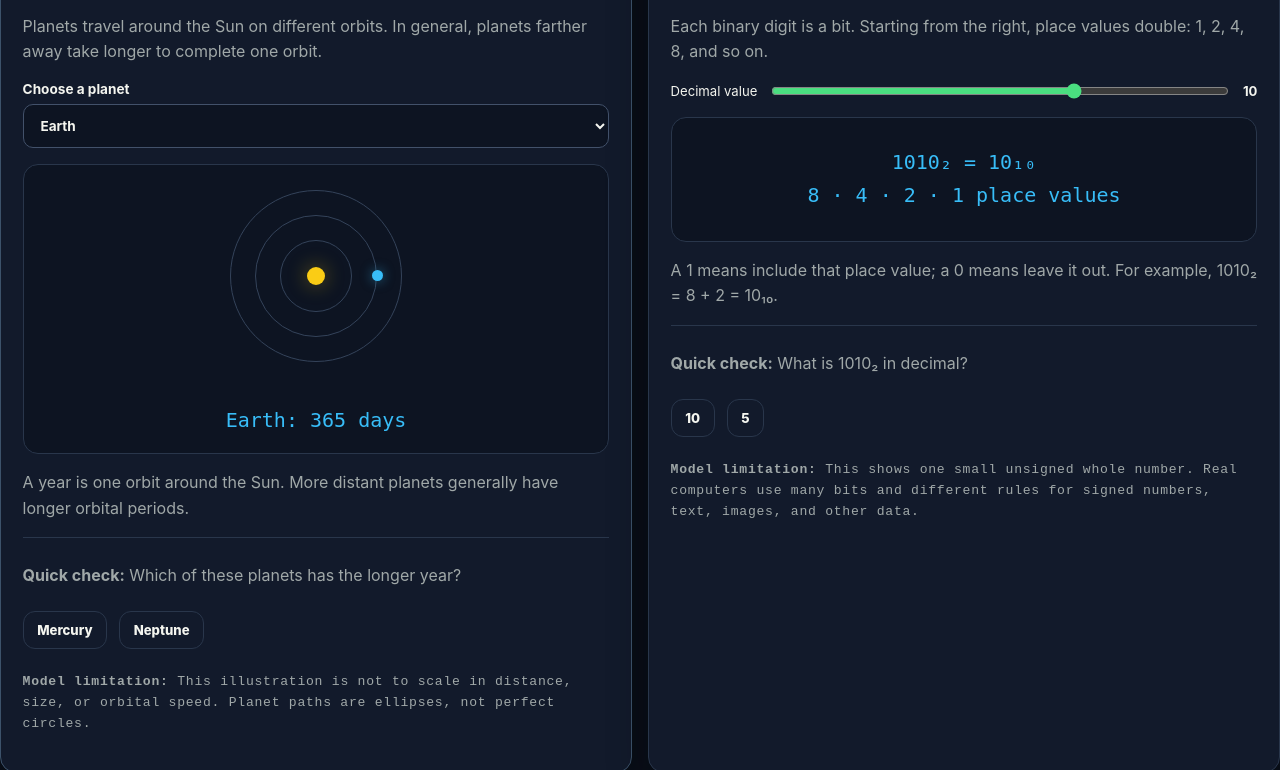
ScienceExperiences › rejects an incorrect knowledge check answer
(page scrolled)
Click the button "Mercury": (65, 630) [23, 611, 107, 649]
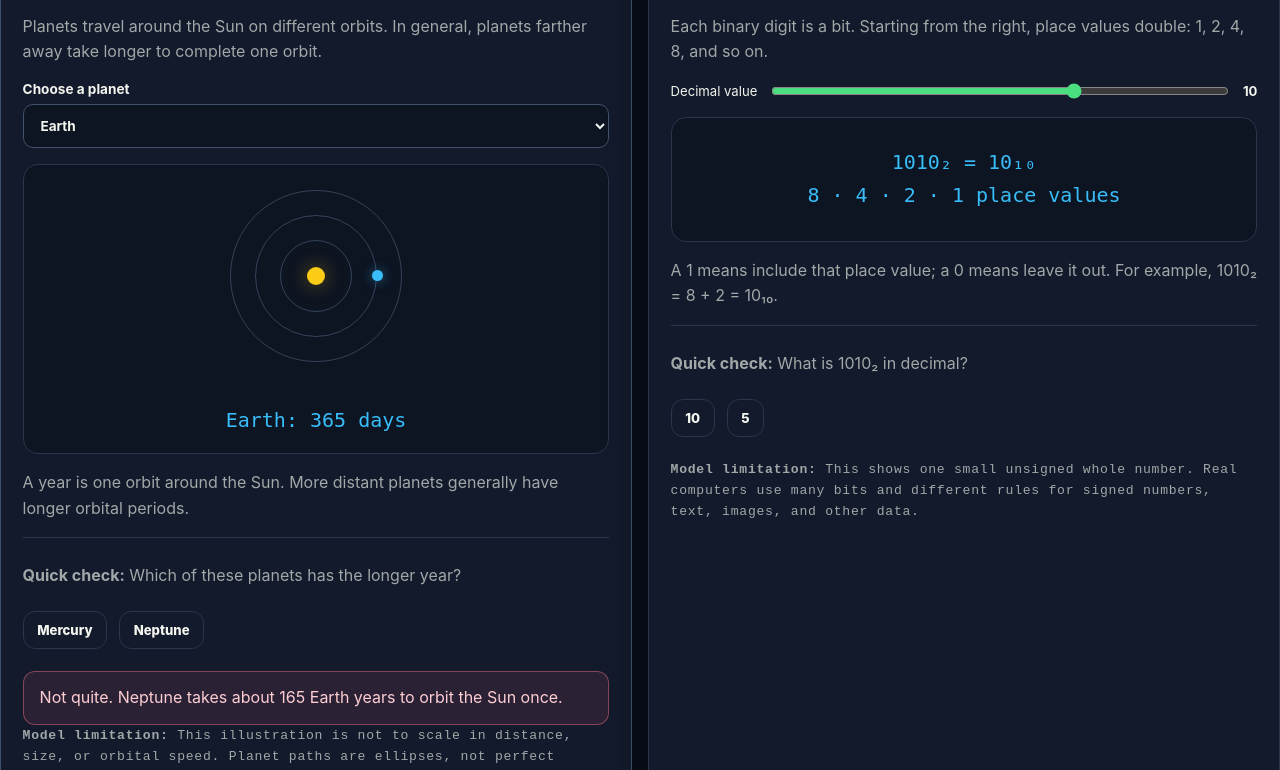
Now the text "Not quite. Neptune takes about 165 Earth years to orbit the Sun once." is shown, box [23, 671, 609, 724]
